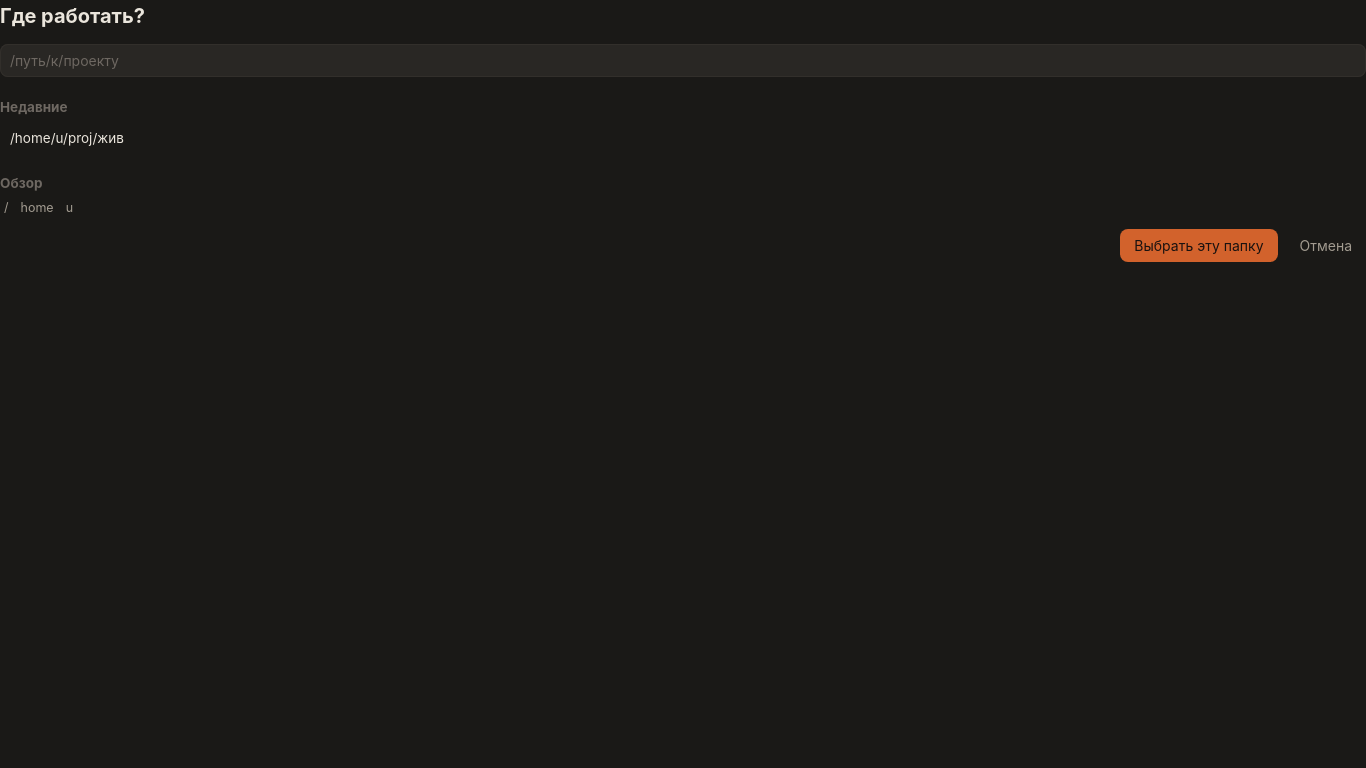
диалог пересечения с control-plane › блокирующее пересечение показывает диалог вместо создания чата
This screenshot has width=1366, height=768.
What coordinates should you click on to do the following:
click the button "/home/u/proj/жив"
I would click on:
 (67, 138)
Its box is [0, 123, 1365, 153].
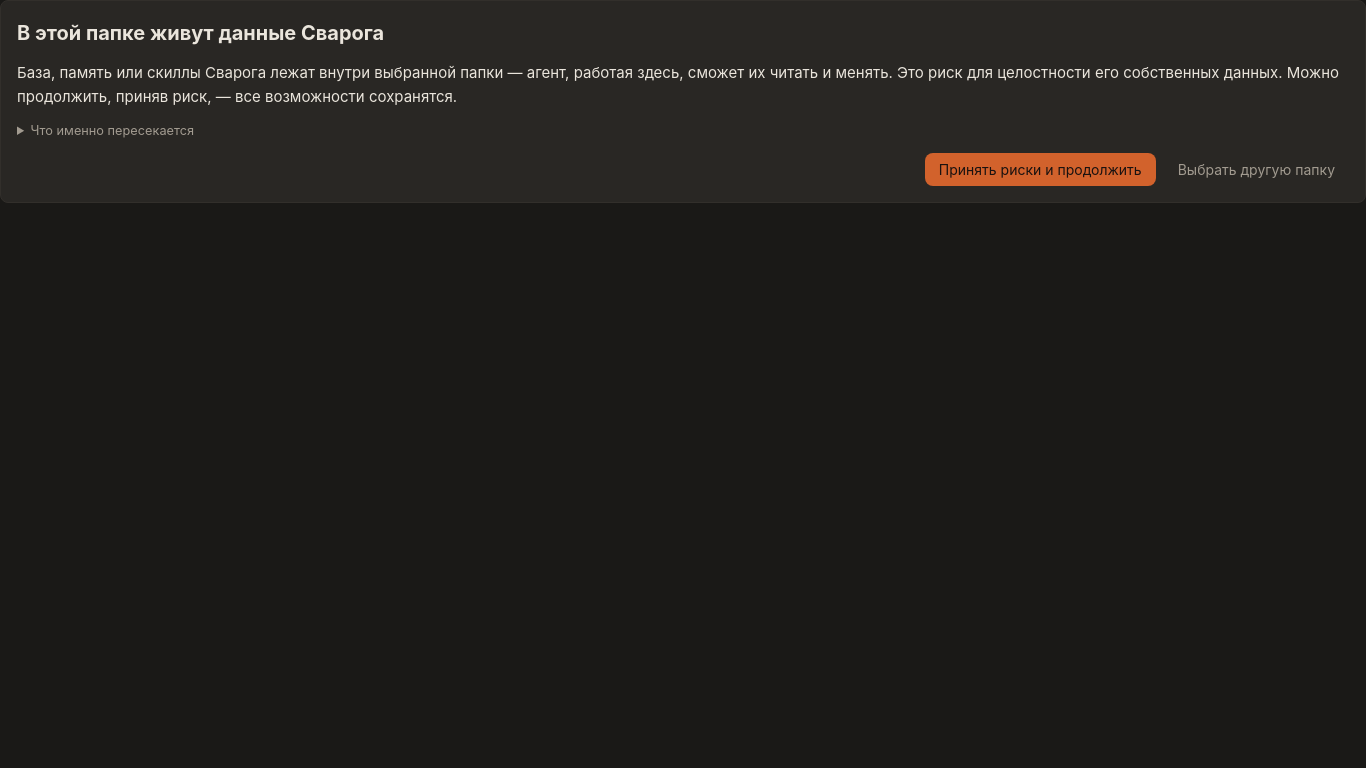
Now the heading "В этой папке живут данные Сварога" is shown, box [17, 21, 384, 45]
